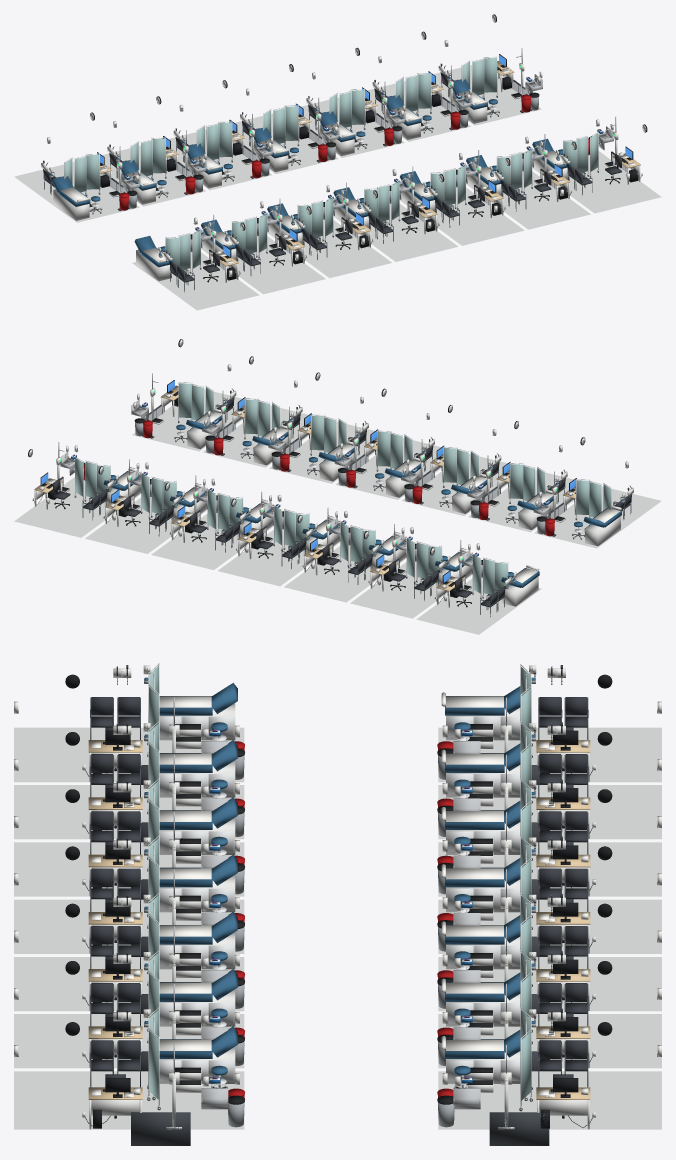
The model's file is 22_n2_consultorios_osce.glb.
The picture shows the model from 3 angles, top to bottom: view 1: azimuth 30°, elevation 25°; view 2: azimuth 150°, elevation 25°; view 3: azimuth 270°, elevation 25°; orthographic projection. The views are drawn at different scales.
Visible parts, largest first — view 1: biombo (×14), mesa_exploracion (×14), escritorio_medico (×7), piso · Consultorio OSCE 7, piso · Consultorio OSCE 1, piso · Consultorio OSCE 4, piso · Consultorio OSCE 3, piso · Consultorio OSCE 6, piso · Consultorio OSCE 2, piso · Consultorio OSCE 5, piso · Consultorio OSCE 8, piso · Consultorio OSCE 14 (+5 smaller); view 2: biombo (×14), mesa_exploracion (×14), escritorio_medico (×7), piso · Consultorio OSCE 14, piso · Consultorio OSCE 8, piso · Consultorio OSCE 10, piso · Consultorio OSCE 9, piso · Consultorio OSCE 11, piso · Consultorio OSCE 13, piso · Consultorio OSCE 12, piso · Consultorio OSCE 1, piso · Consultorio OSCE 7 (+5 smaller); view 3: mesa_exploracion (×14), silla_visita (×28), escritorio_medico (×14), biombo (×14), piso · Consultorio OSCE 7, piso · Consultorio OSCE 14, piso · Consultorio OSCE 1, piso · Consultorio OSCE 2, piso · Consultorio OSCE 3, piso · Consultorio OSCE 6, piso · Consultorio OSCE 4, piso · Consultorio OSCE 5 (+7 smaller).
Part boxes in pixels (x1,y1,x2,y2): biombo (×14): [64, 56, 598, 274]; mesa_exploracion (×14): [52, 78, 570, 281]; escritorio_medico (×7): [210, 146, 640, 282]; piso · Consultorio OSCE 7: [532, 151, 661, 213]; piso · Consultorio OSCE 1: [132, 252, 259, 310]; piso · Consultorio OSCE 4: [333, 203, 458, 261]; piso · Consultorio OSCE 3: [267, 219, 391, 278]; piso · Consultorio OSCE 6: [466, 171, 590, 229]; piso · Consultorio OSCE 2: [201, 236, 325, 294]; piso · Consultorio OSCE 5: [399, 187, 524, 245]; piso · Consultorio OSCE 8: [14, 162, 139, 222]; piso · Consultorio OSCE 14: [431, 65, 541, 125]; biombo (×14): [74, 382, 611, 599]; mesa_exploracion (×14): [103, 408, 621, 606]; escritorio_medico (×7): [34, 472, 464, 607]; piso · Consultorio OSCE 14: [14, 477, 141, 537]; piso · Consultorio OSCE 8: [416, 577, 541, 634]; piso · Consultorio OSCE 10: [284, 545, 406, 602]; piso · Consultorio OSCE 9: [350, 561, 472, 618]; piso · Consultorio OSCE 11: [218, 529, 340, 586]; piso · Consultorio OSCE 13: [85, 497, 207, 553]; piso · Consultorio OSCE 12: [151, 513, 273, 569]; piso · Consultorio OSCE 1: [534, 486, 661, 548]; piso · Consultorio OSCE 7: [132, 389, 242, 451]; mesa_exploracion (×14): [159, 683, 522, 1092]; silla_visita (×28): [90, 697, 588, 1087]; escritorio_medico (×14): [88, 730, 590, 1129]; biombo (×14): [147, 663, 532, 1111]; piso · Consultorio OSCE 7: [14, 1071, 244, 1129]; piso · Consultorio OSCE 14: [438, 1071, 661, 1129]; piso · Consultorio OSCE 1: [14, 727, 244, 782]; piso · Consultorio OSCE 2: [14, 785, 244, 839]; piso · Consultorio OSCE 3: [14, 842, 244, 896]; piso · Consultorio OSCE 6: [14, 1014, 244, 1068]; piso · Consultorio OSCE 4: [14, 899, 244, 953]; piso · Consultorio OSCE 5: [14, 957, 244, 1011].
Size of the model in its own units: 21.27 by 3.01 by 14.35.
30 materials, 1 textured.
